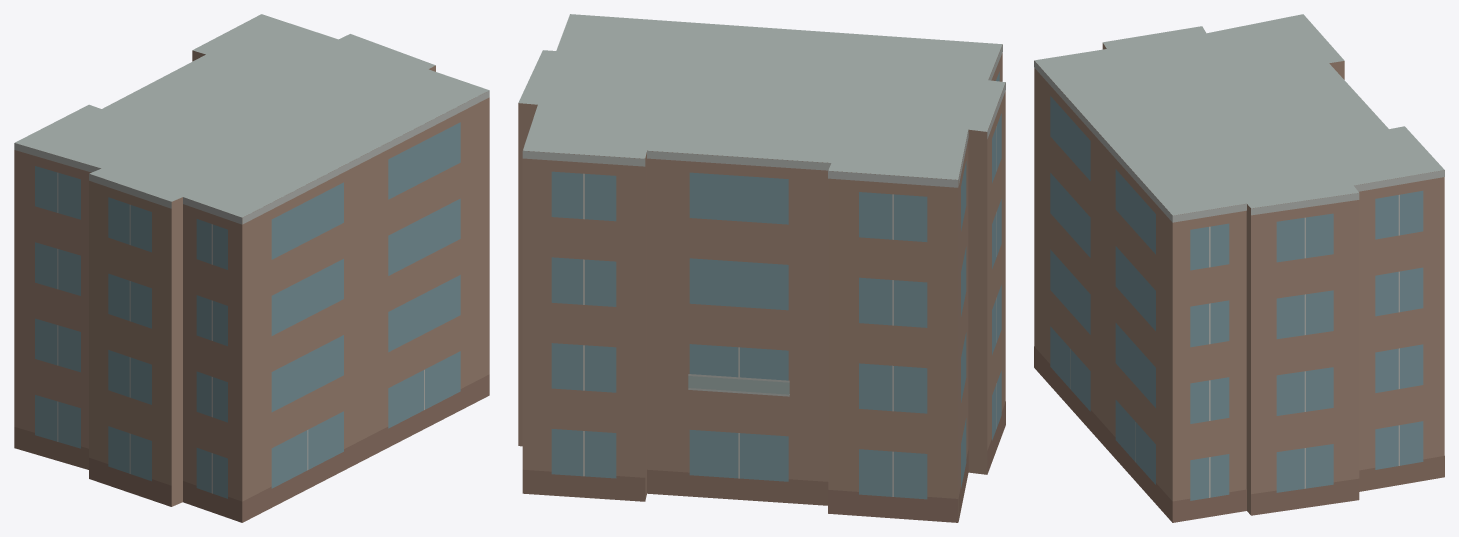
The model's file is survey-upis-32678778.glb.
3 views of the same model, side by side, from view 1: azimuth 30°, elevation 25°; view 2: azimuth 150°, elevation 25°; view 3: azimuth 270°, elevation 25° (orthographic). The views are drawn at different scales.
Parts seen in each view (by area): view 1: survey-upis-32678778.tmp; view 2: survey-upis-32678778.tmp; view 3: survey-upis-32678778.tmp.
Boxes of the visible parts, x1,y1,x2,y2 form: survey-upis-32678778.tmp: [14, 14, 489, 522]; survey-upis-32678778.tmp: [518, 14, 1005, 522]; survey-upis-32678778.tmp: [1034, 14, 1444, 522].
Bounding box in the file's own units: 15 × 10.65 × 12.91.
